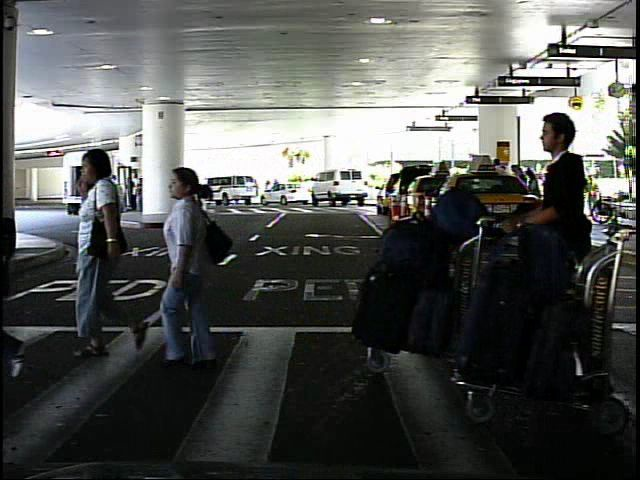person: (505, 98, 601, 394), (77, 137, 154, 358), (148, 158, 221, 382), (584, 171, 604, 217), (103, 172, 121, 222), (262, 178, 272, 204)
